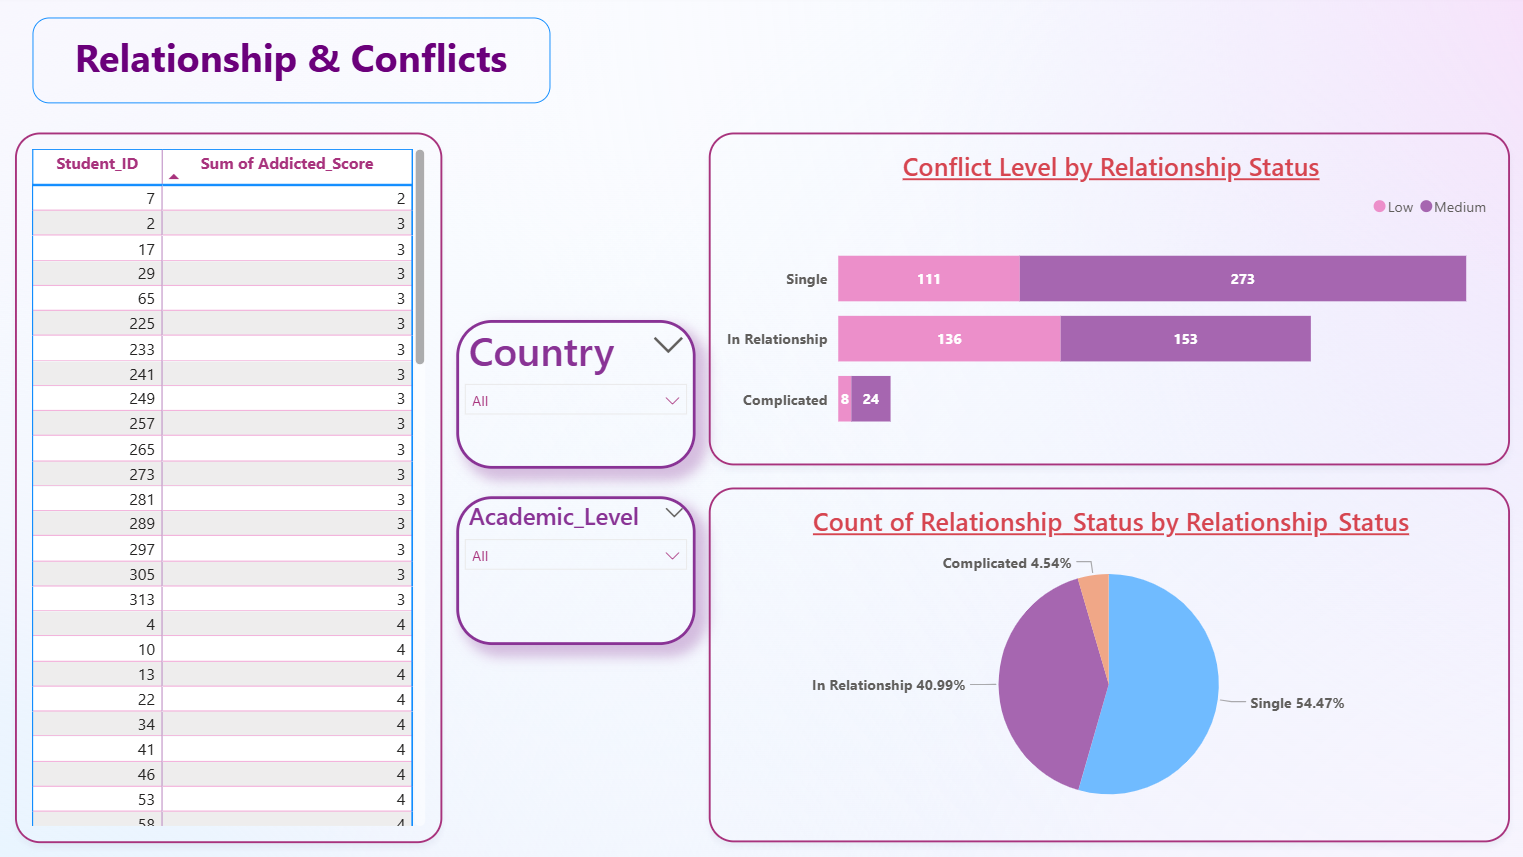

This screenshot's page, from the dashboard's own definition file:
{"tool":"powerbi","page":{"name":"Relationships and Conflicts","canvas":[1280,720],"ordinal":3},"visuals":[{"type":"tableEx","fields":{"Values":["Student Details.Student_ID","Sum(Student Details.Addicted_Score)"]},"box":[12.4,110.8,358.4,595.9],"z":0},{"type":"pieChart","fields":{"Y":["CountNonNull(Student Details.Relationship_Status)"],"Category":["Student Details.Relationship_Status"]},"box":[594.7,409.3,671.6,297.4],"z":1000},{"type":"barChart","title":"Conflict Level by Relationship Status","fields":{"Category":["Student Details.Relationship_Status"],"Y":["CountNonNull(Student Details.Conflict Level)"],"Series":["Student Details.Conflict Level"]},"box":[594.7,110.8,671.6,279.3],"z":2000},{"type":"slicer","fields":{"Values":["Student Details.Country"]},"box":[382.2,268.1,200.6,124.5],"z":3000},{"type":"slicer","fields":{"Values":["Student Details.Academic_Level"]},"box":[382.2,416.1,200.6,124.5],"z":4000},{"type":"textbox","box":[27.1,14.7,434.2,72.4],"z":4001}]}

Visuals, with their boxes in screenshot pixels (x1, y1, x2, y2), scaled from the page's 1280x720 canvas onto the 1523x857 screenshot:
tableEx - Student Details.Student_ID x Sum(Student Details.Addicted_Score): Rect(15, 132, 441, 841)
pieChart - CountNonNull(Student Details.Relationship_Status) x Student Details.Relationship_Status: Rect(708, 487, 1507, 841)
"Conflict Level by Relationship Status" barChart: Rect(708, 132, 1507, 464)
slicer - Student Details.Country: Rect(455, 319, 693, 467)
slicer - Student Details.Academic_Level: Rect(455, 495, 693, 643)
textbox: Rect(32, 17, 549, 104)
